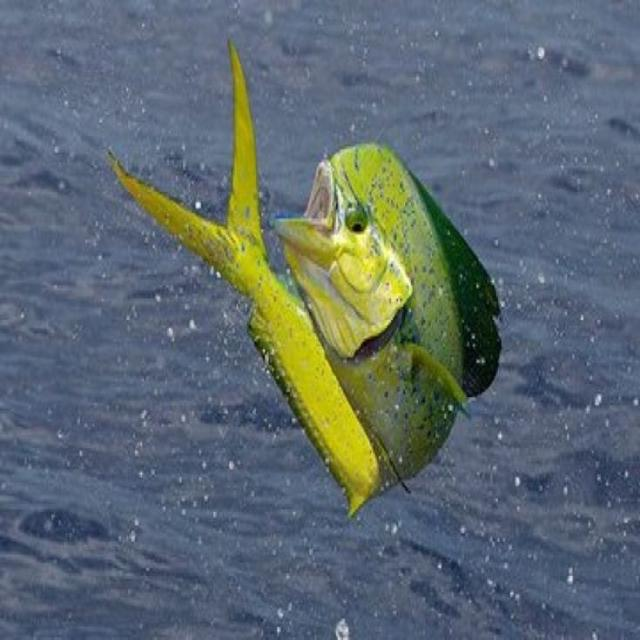Dolphin Mahi Mahi: (106, 34, 504, 524)
